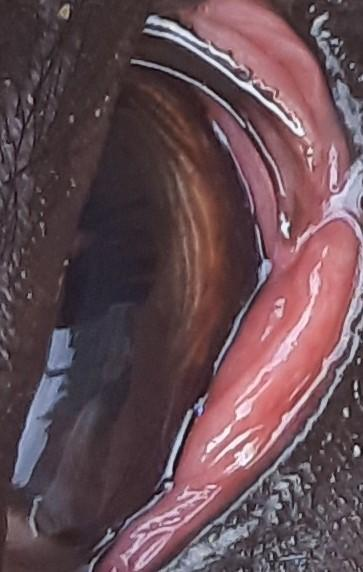eye_membrane: (102, 0, 363, 570)
